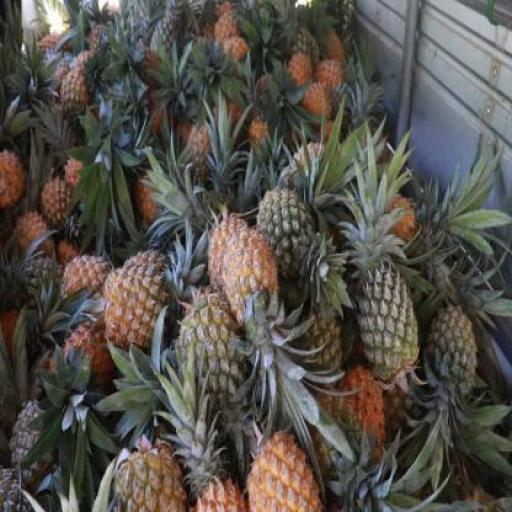------------------------------: (175, 296, 246, 406), (254, 186, 318, 285), (110, 443, 182, 512), (59, 68, 92, 126)
Pineapple - v8 v1: (104, 251, 174, 352), (244, 428, 321, 511), (222, 226, 283, 328), (206, 216, 256, 305), (62, 253, 110, 313), (42, 174, 80, 228), (0, 151, 28, 210)
